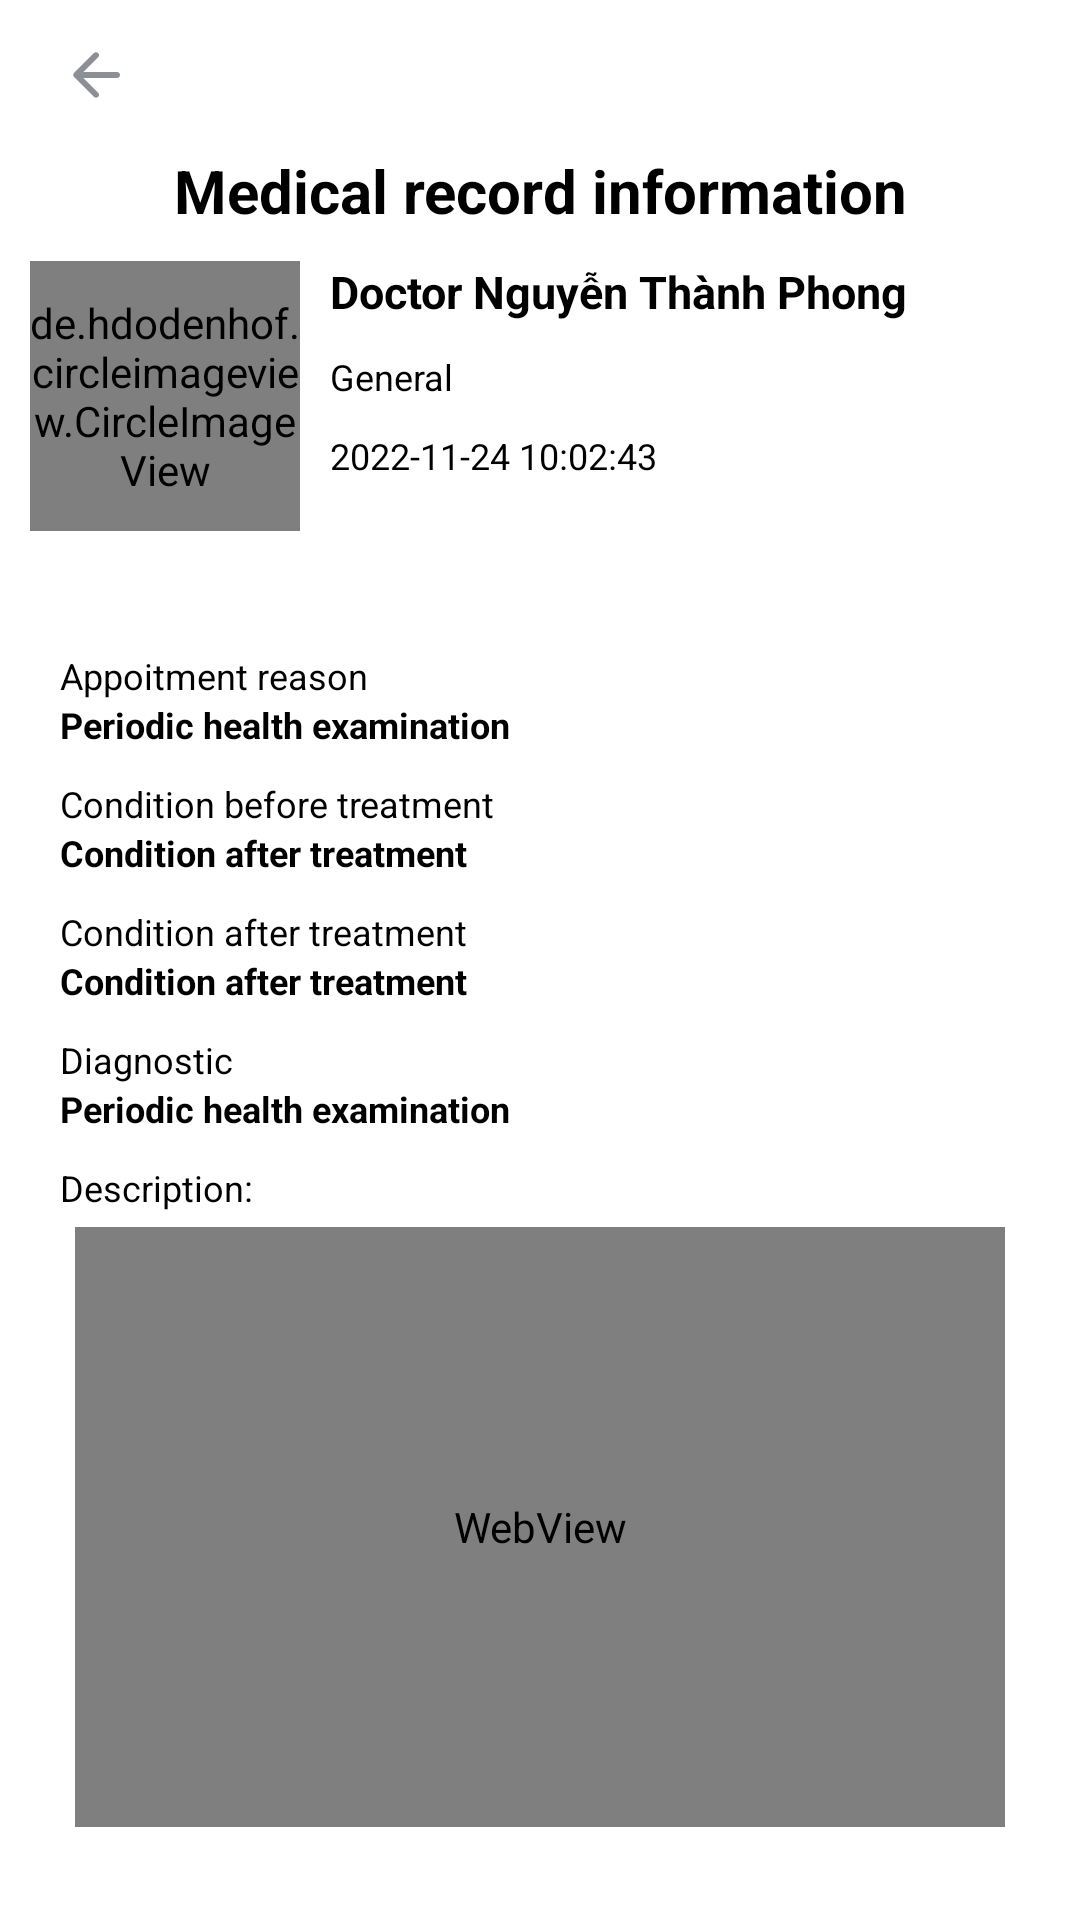

Screen size 1080px×1920px. Icon name, then its center in pixels as (x=x, y=y):
arrow back: (x=96, y=75)
